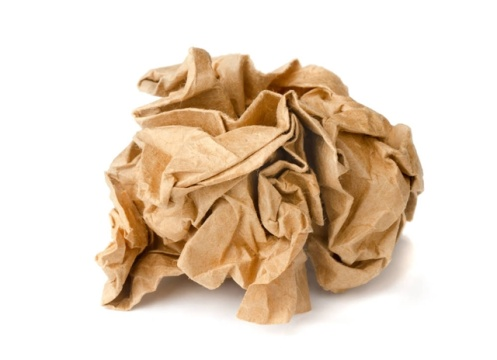flexible: (95, 47, 423, 325)
